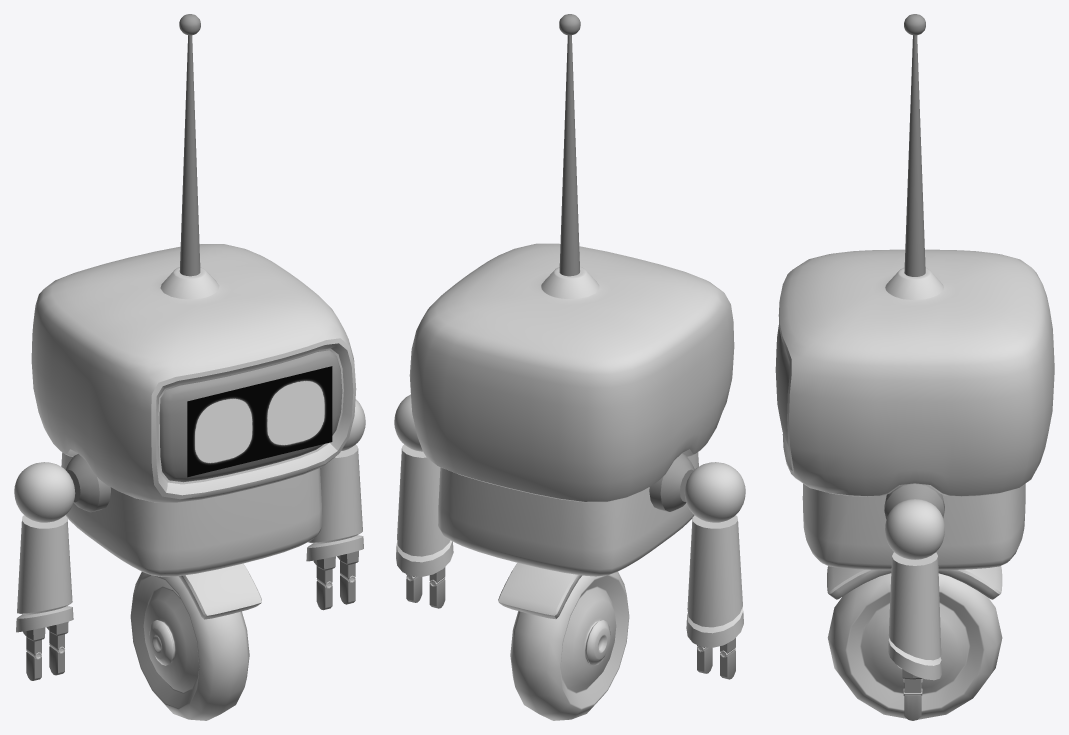
The model's file is Dynamo.fbx.
3 views of the same model, side by side, from view 1: azimuth 30°, elevation 25°; view 2: azimuth 150°, elevation 25°; view 3: azimuth 270°, elevation 25° (orthographic).
Parts seen in each view (by area): view 1: SM_Dynamo_Body, SM_Dynamo_Wheel, SM_Dynamo_L_Arm, SM_Dynamo_R_Arm, SM_Dynamo_R_Eye, SM_Dynamo_L_Eye, SM_Dynamo_Antenna; view 2: SM_Dynamo_Body, SM_Dynamo_Wheel, SM_Dynamo_L_Arm, SM_Dynamo_R_Arm, SM_Dynamo_Antenna; view 3: SM_Dynamo_Body, SM_Dynamo_Wheel, SM_Dynamo_R_Arm, SM_Dynamo_Antenna.
Part boxes in pixels (x1,y1,x2,y2): SM_Dynamo_Body: (31, 244, 356, 619); SM_Dynamo_Wheel: (130, 572, 249, 720); SM_Dynamo_L_Arm: (14, 462, 75, 680); SM_Dynamo_R_Arm: (306, 399, 365, 610); SM_Dynamo_R_Eye: (259, 366, 332, 459); SM_Dynamo_L_Eye: (187, 384, 259, 477); SM_Dynamo_Antenna: (179, 14, 200, 276); SM_Dynamo_Body: (409, 243, 734, 619); SM_Dynamo_Wheel: (510, 571, 629, 720); SM_Dynamo_L_Arm: (684, 462, 745, 679); SM_Dynamo_R_Arm: (394, 394, 453, 608); SM_Dynamo_Antenna: (559, 14, 580, 276); SM_Dynamo_Body: (775, 249, 1054, 599); SM_Dynamo_Wheel: (827, 573, 1002, 719); SM_Dynamo_R_Arm: (885, 499, 944, 720); SM_Dynamo_Antenna: (904, 14, 925, 276).
Bounding box in the file's own units: 78.75 × 154 × 55.71.
